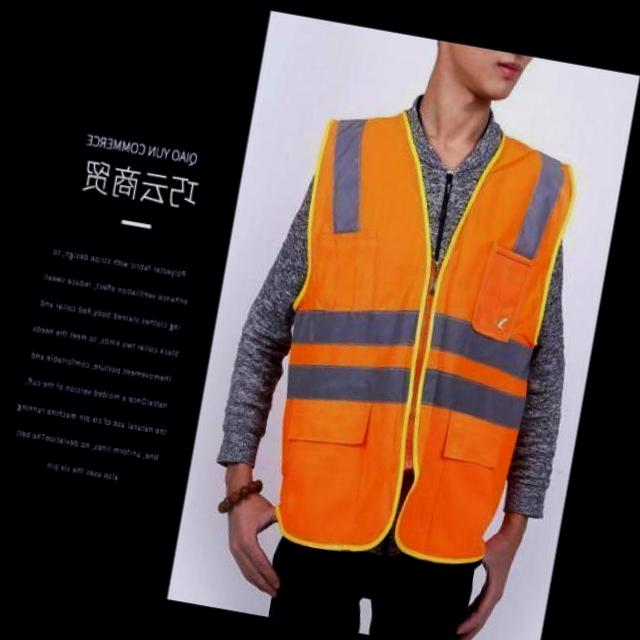vest: (272, 118, 578, 561)
